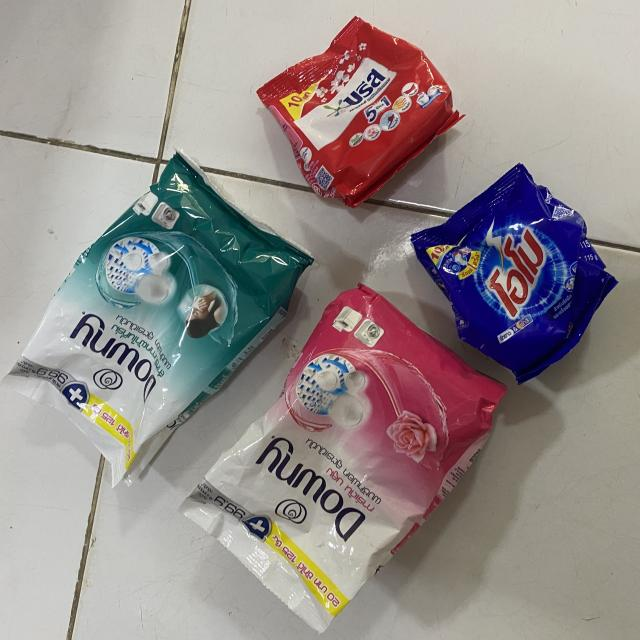plastik: (180, 285, 505, 631), (4, 152, 314, 486), (411, 164, 618, 384), (258, 18, 461, 208)
